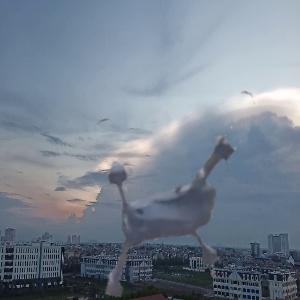drone: (70, 81, 284, 295)
